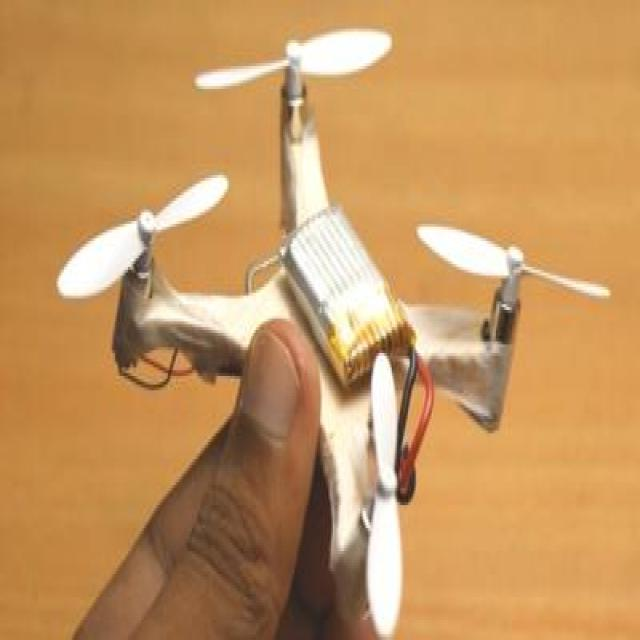drone: (58, 21, 613, 640)
